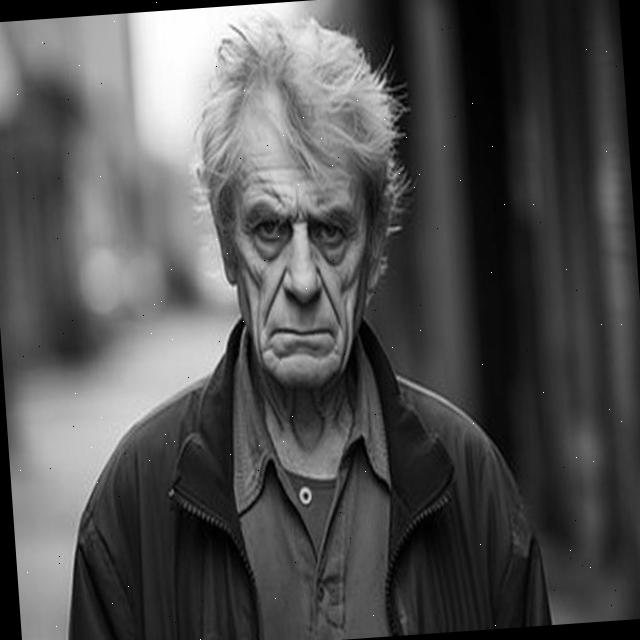Angry: (222, 88, 378, 394)
